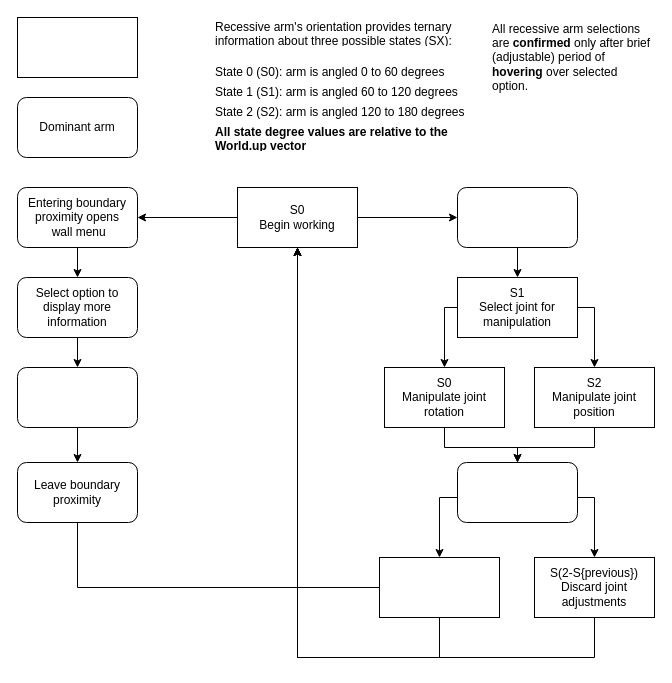
This 672x683 diagram has some shape labels left out. Each missing label, with the centre of its shape:
"Adjust joint property" goes at point (517, 492).
"Confirm action" goes at point (77, 397).
"Highlighted joint" goes at point (517, 217).
"S1 Save joint adjustments" goes at point (439, 587).
"SX Recessive arm" goes at point (77, 47).
